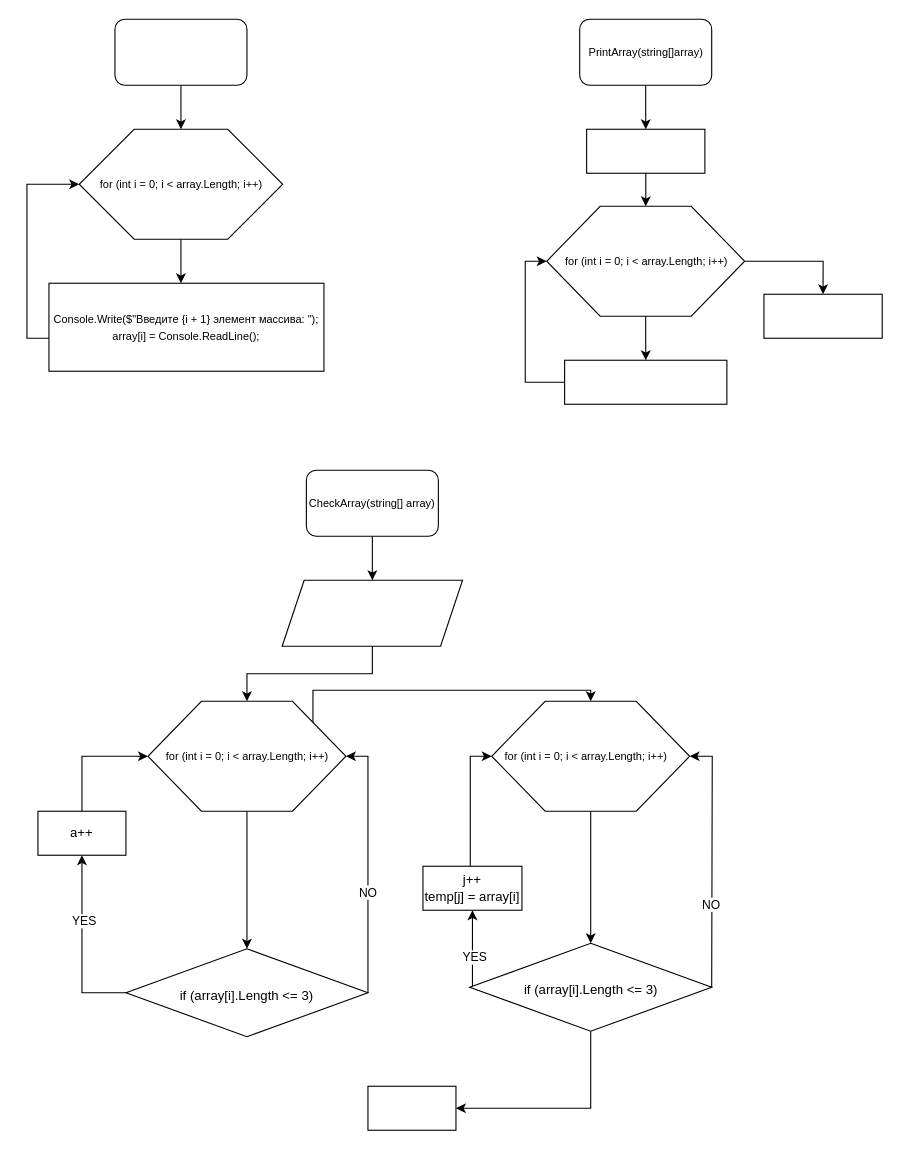
The diagram is 902 pixels wide and 1150 high, and some of its shapes have lost their labels. Each missing label, with the centre of its shape:
Console.Write("["): point (645, 150)
Console.Write("]"): point (822, 315)
Console.Write($" '{array[i]}' ");: point (645, 381)
FillArray(string[]array): point (180, 51)
int a = 0; int j = 0; string[] temp = new string[a];: point (372, 612)
return temp: point (411, 1107)
